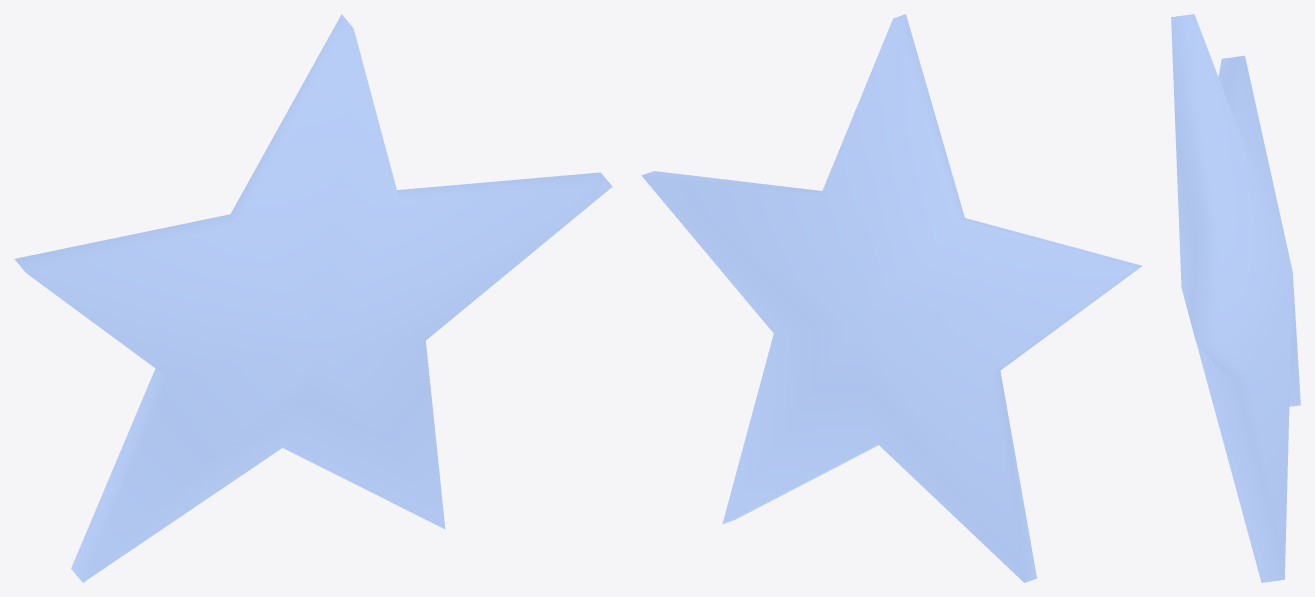
The model's file is white-glowing-star.glb.
The picture shows the model from 3 angles, left to right: view 1: azimuth 30°, elevation 25°; view 2: azimuth 150°, elevation 25°; view 3: azimuth 270°, elevation 25°; orthographic projection. The views are drawn at different scales.
Visible parts, largest first — view 1: Circle; view 2: Circle; view 3: Circle.
Boxes of the visible parts, x1=… form: Circle: x1=14, y1=14, x2=612, y2=582; Circle: x1=641, y1=14, x2=1142, y2=582; Circle: x1=1171, y1=14, x2=1300, y2=582.
Bounding box in the file's own units: 1.9 × 1.83 × 0.4241.
